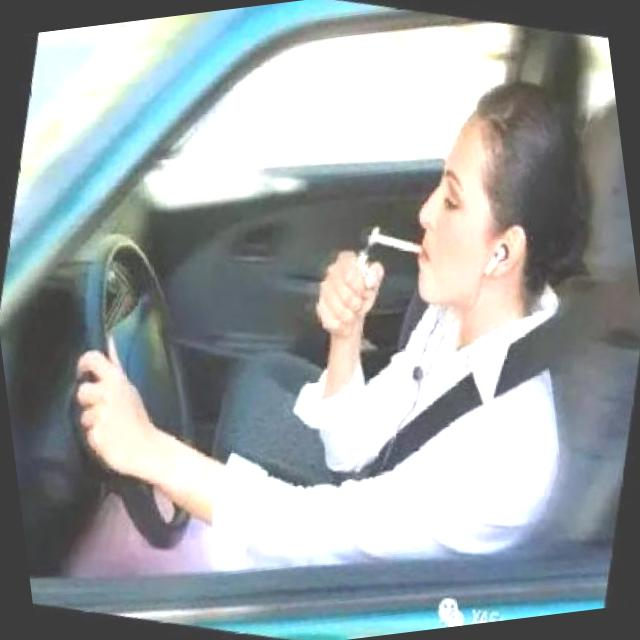cigarette: (364, 222, 426, 264)
